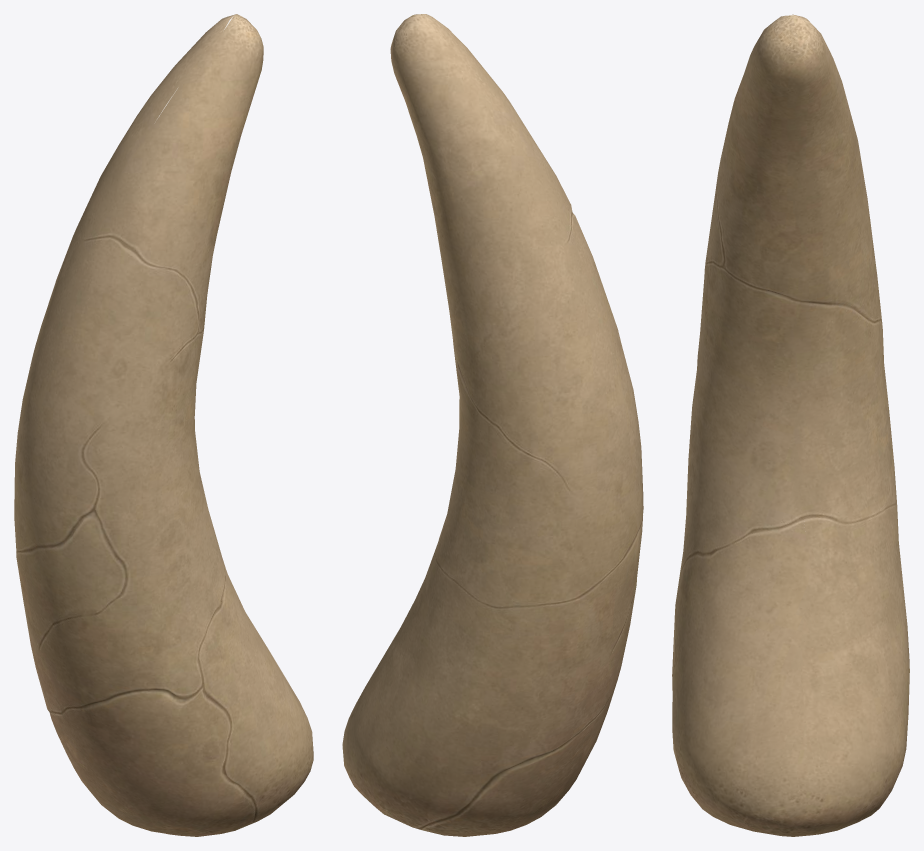
3 views of the same model, side by side, from view 1: azimuth 30°, elevation 25°; view 2: azimuth 150°, elevation 25°; view 3: azimuth 270°, elevation 25° (orthographic). The views are drawn at different scales.
Parts seen in each view (by area): view 1: tb_bone_01b; view 2: tb_bone_01b; view 3: tb_bone_01b.
Part boxes in pixels (x1=…): tb_bone_01b: x1=14, y1=14, x2=313, y2=836; tb_bone_01b: x1=342, y1=14, x2=643, y2=836; tb_bone_01b: x1=672, y1=14, x2=909, y2=836.
Bounding box in the file's own units: 3.6 × 9.92 × 2.58.
1 material, 1 textured.
